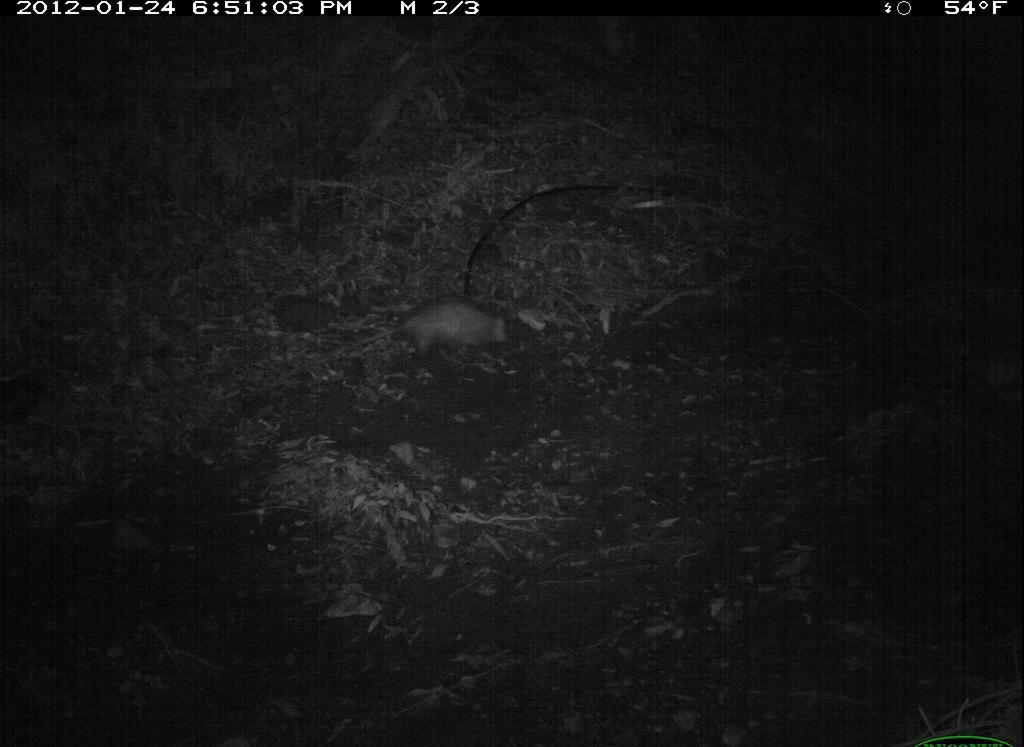opossum: (309, 301, 559, 383)
